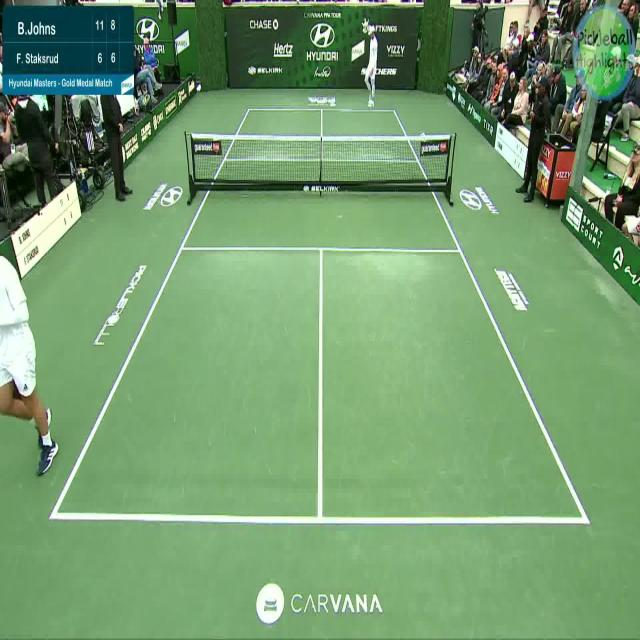Court: (50, 104, 589, 524)
